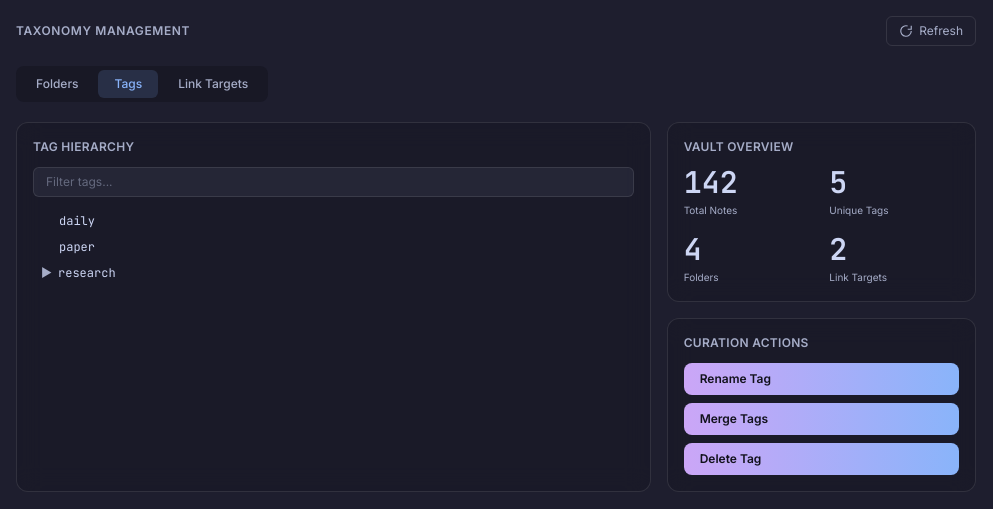
Test: TaxonomyPage › filters tags by search
The image size is (993, 509).
Check: the text "research" is shown, box [58,265,116,281]
In the field with placeholder "Filter tags...": (333, 182) [33,167,634,197], type "daily"
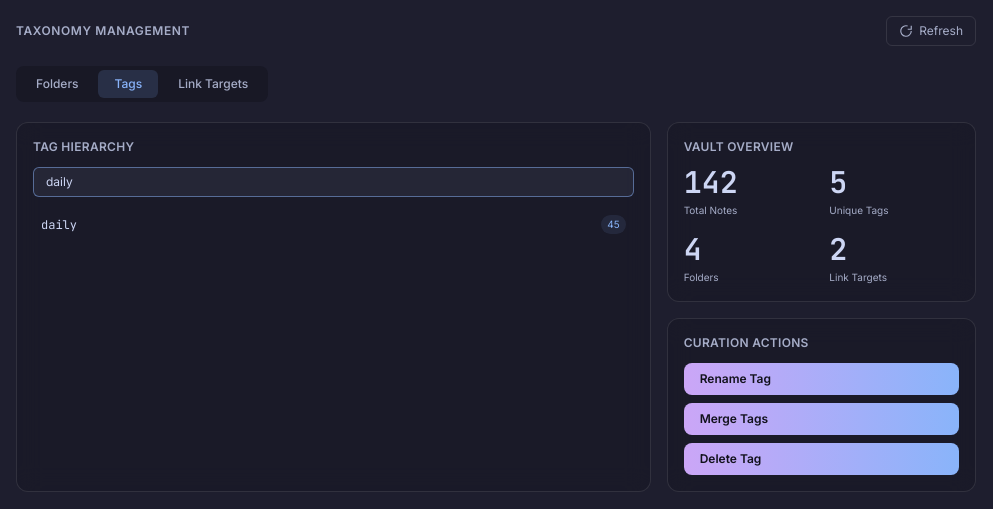
Check: the text "daily" is shown, box [41,216,77,232]
Check: the text "research" is gone
